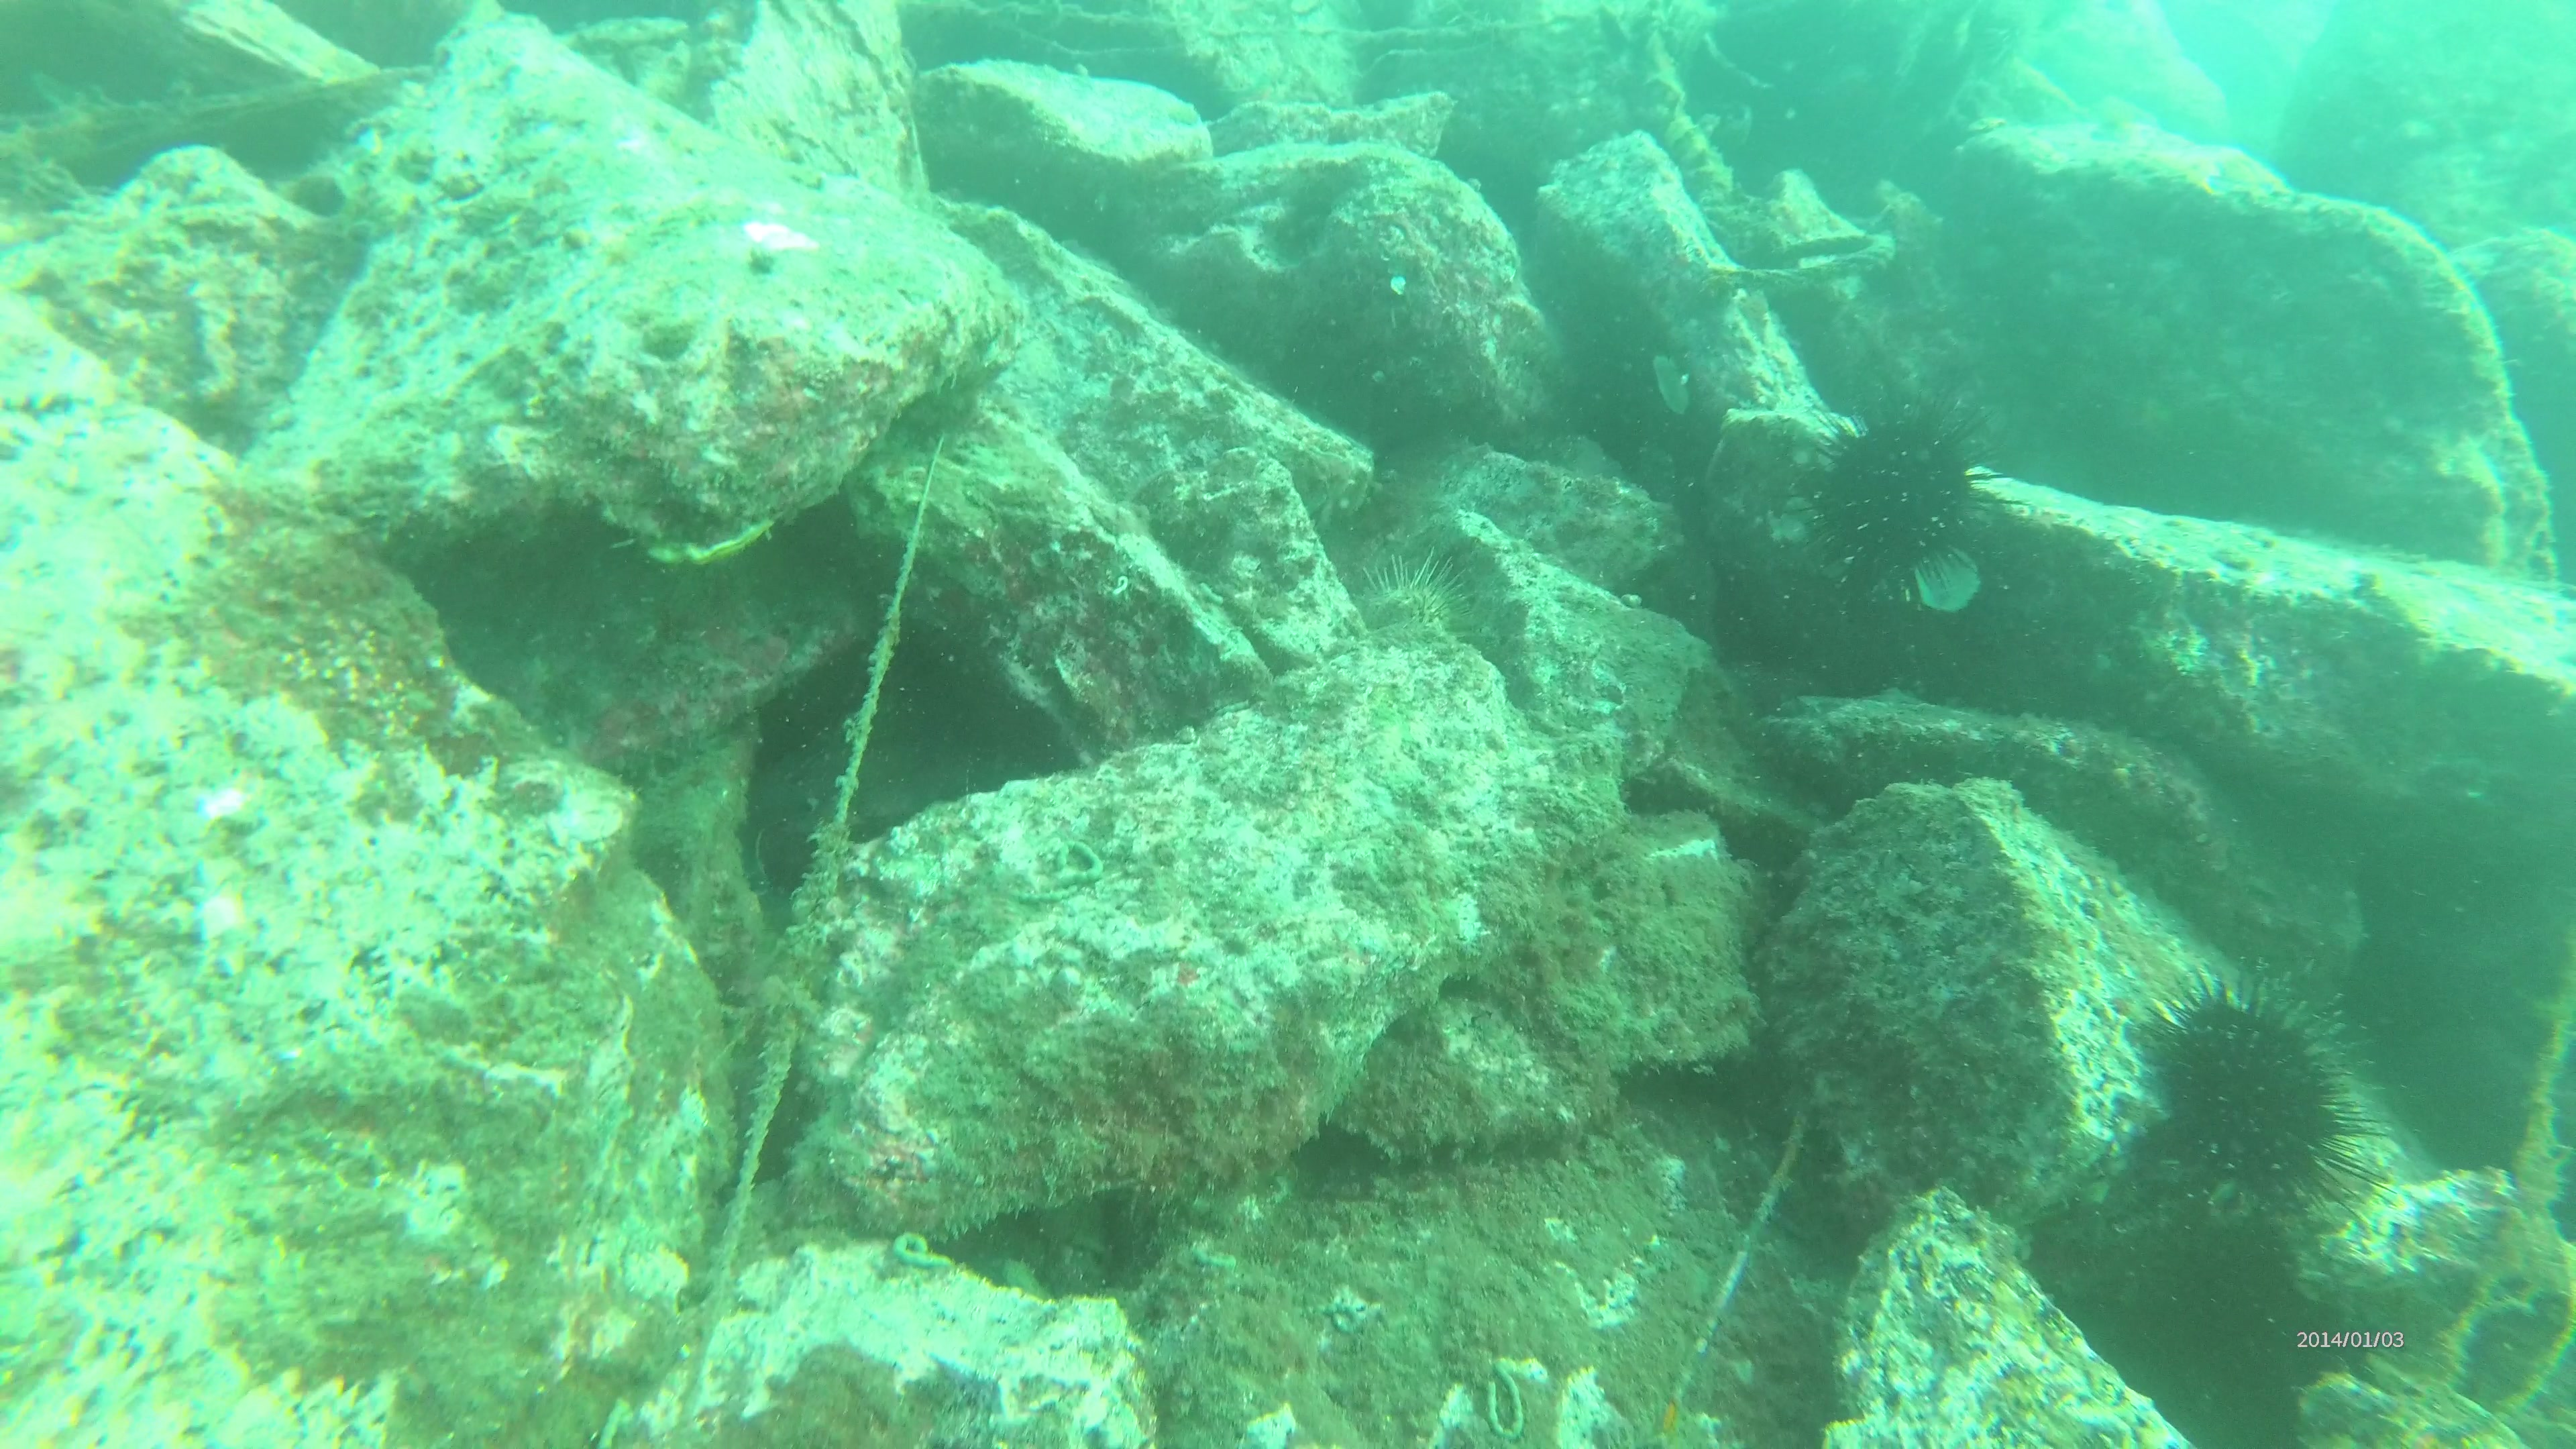echinus: (2148, 978, 2360, 1217), (1806, 407, 1978, 596), (1357, 559, 1472, 653)
